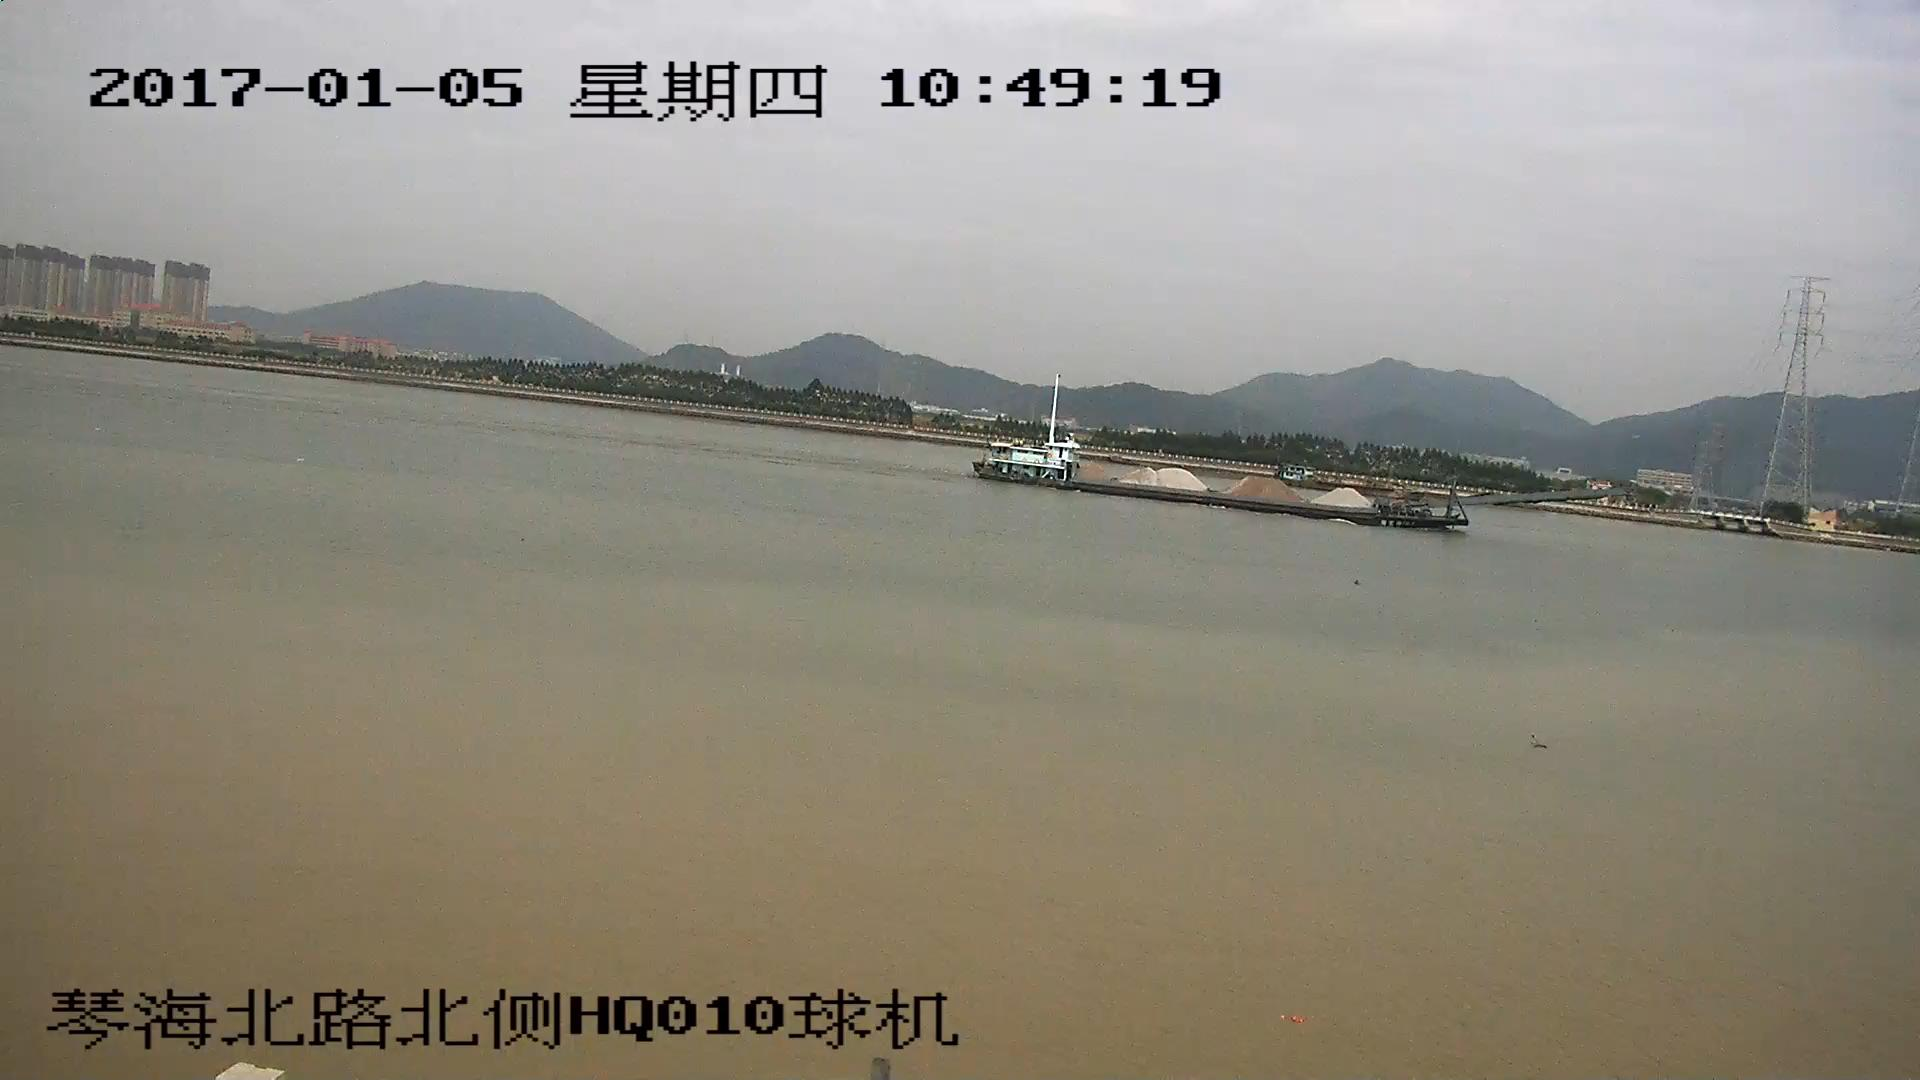ore carrier: (975, 380, 1611, 533)
